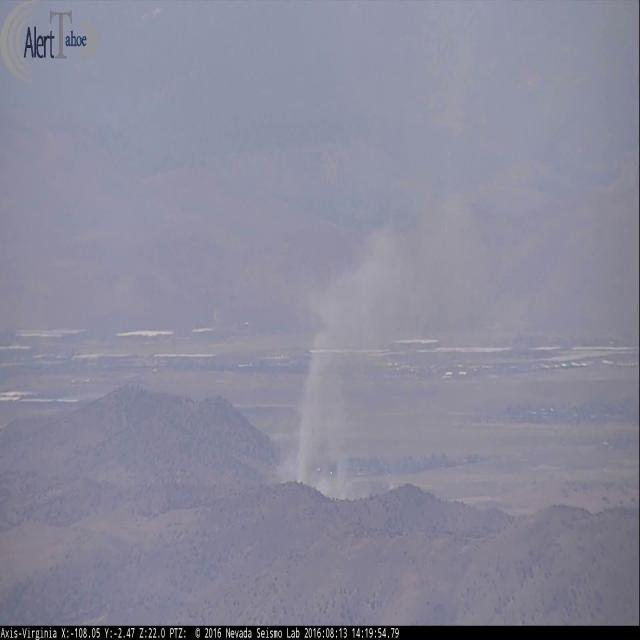smoke: (271, 187, 552, 487), (418, 0, 500, 193)
